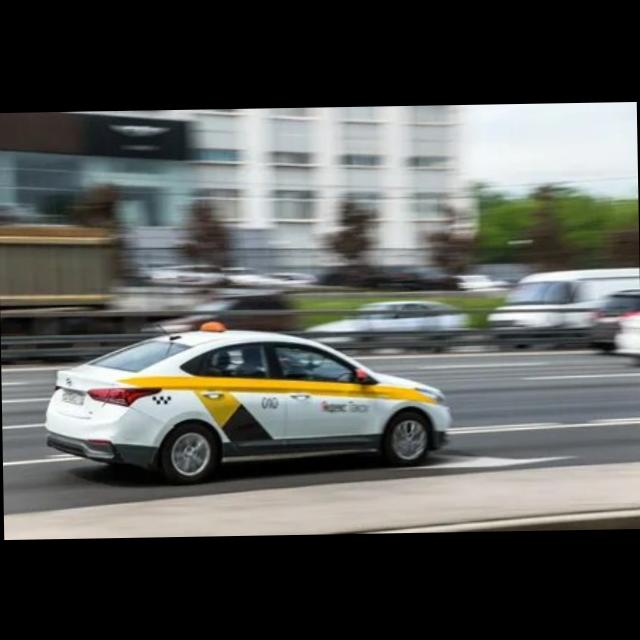taxi: (43, 316, 454, 485)
